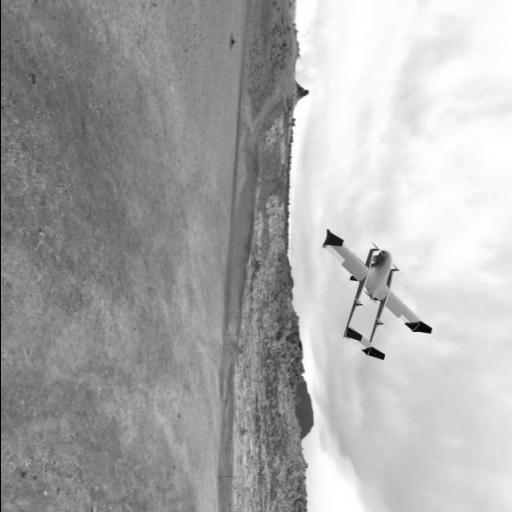uav: (301, 229, 435, 361)
